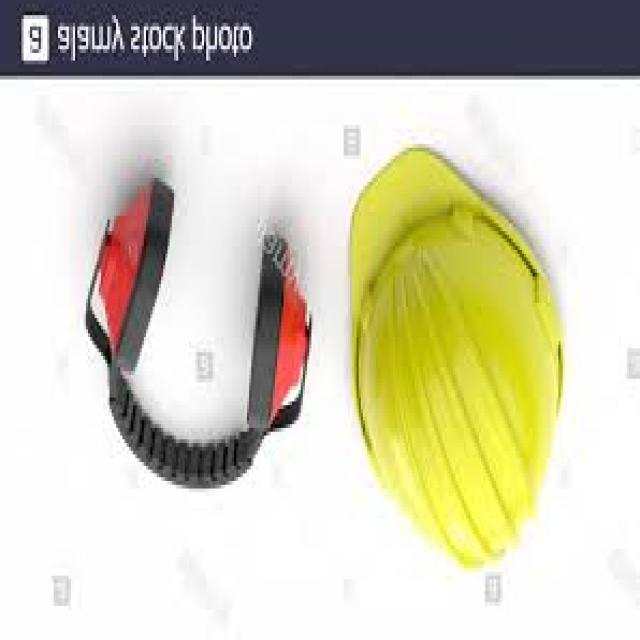Ear-Protection: (92, 182, 176, 382), (243, 235, 309, 439)
Helmet: (343, 144, 564, 579)
